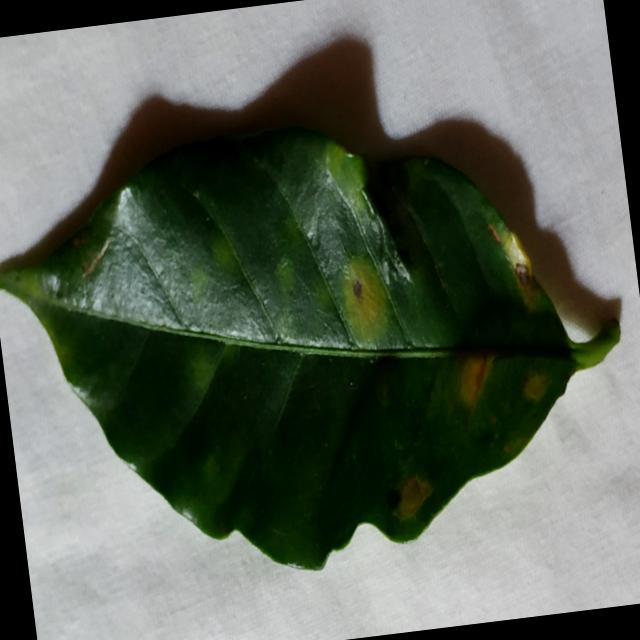KaratDaunKopi: (344, 256, 387, 339), (388, 476, 432, 519), (460, 356, 492, 410), (188, 342, 219, 397), (213, 232, 237, 273), (523, 371, 549, 402), (277, 258, 293, 291), (515, 263, 529, 285), (504, 440, 520, 454)
